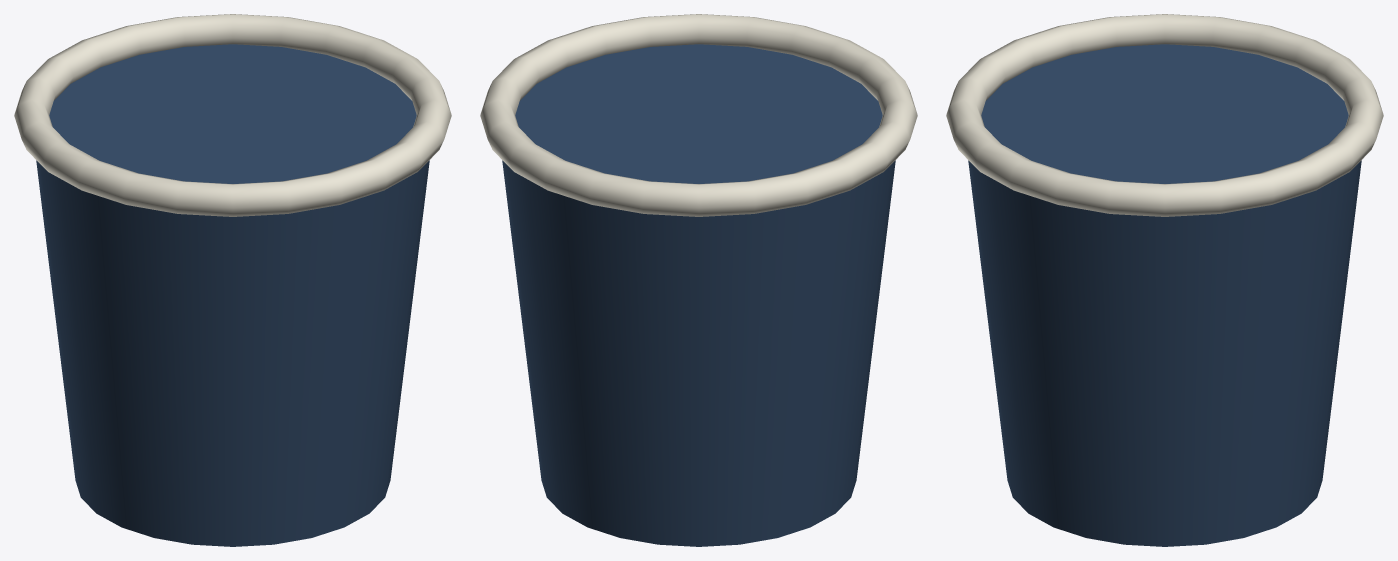
Rendered from waste_bin.glb.
3 renders of one model, left to right at view 1: azimuth 30°, elevation 25°; view 2: azimuth 150°, elevation 25°; view 3: azimuth 270°, elevation 25°, orthographic.
Visible parts, largest first — view 1: _MeshInstance3D_1217, _MeshInstance3D_1218; view 2: _MeshInstance3D_1217, _MeshInstance3D_1218; view 3: _MeshInstance3D_1217, _MeshInstance3D_1218.
Boxes of the visible parts, x1,y1,x2,y2 form: _MeshInstance3D_1217: (36, 44, 429, 546); _MeshInstance3D_1218: (14, 14, 451, 216); _MeshInstance3D_1217: (502, 44, 895, 546); _MeshInstance3D_1218: (480, 14, 917, 216); _MeshInstance3D_1217: (968, 44, 1361, 546); _MeshInstance3D_1218: (946, 14, 1383, 216).
Bounding box in the file's own units: 0.5 × 0.48 × 0.5.
